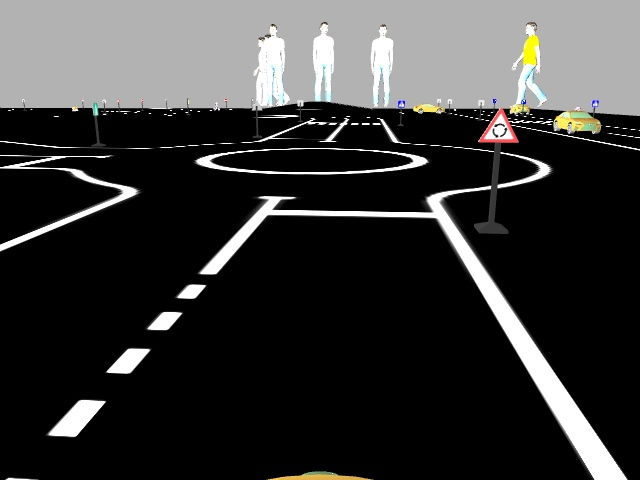Roundabout: (473, 106, 519, 144)
